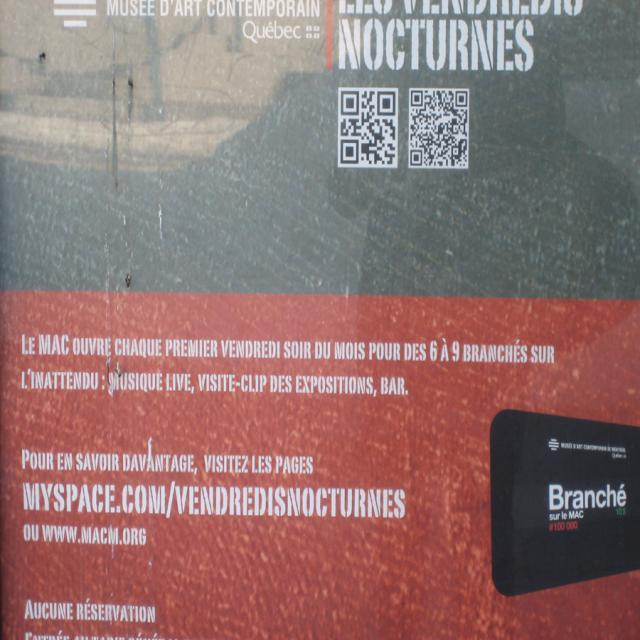qrcode: (412, 91, 469, 167), (342, 92, 397, 165)
